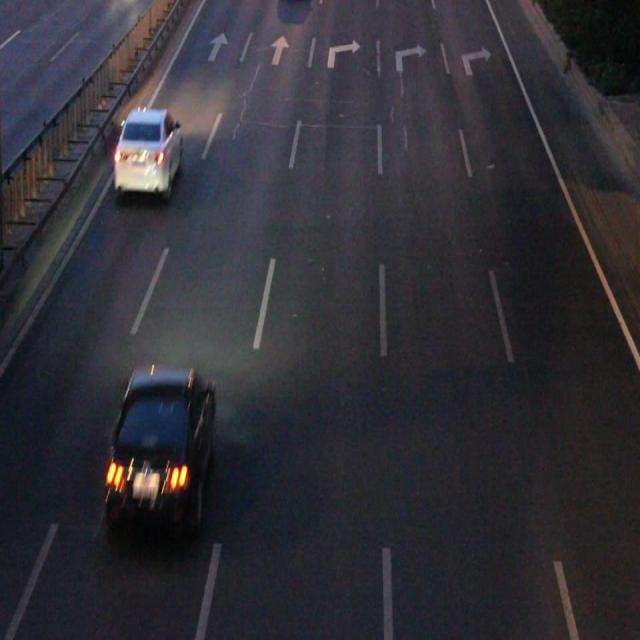car: (107, 371, 213, 524), (115, 110, 181, 190)
